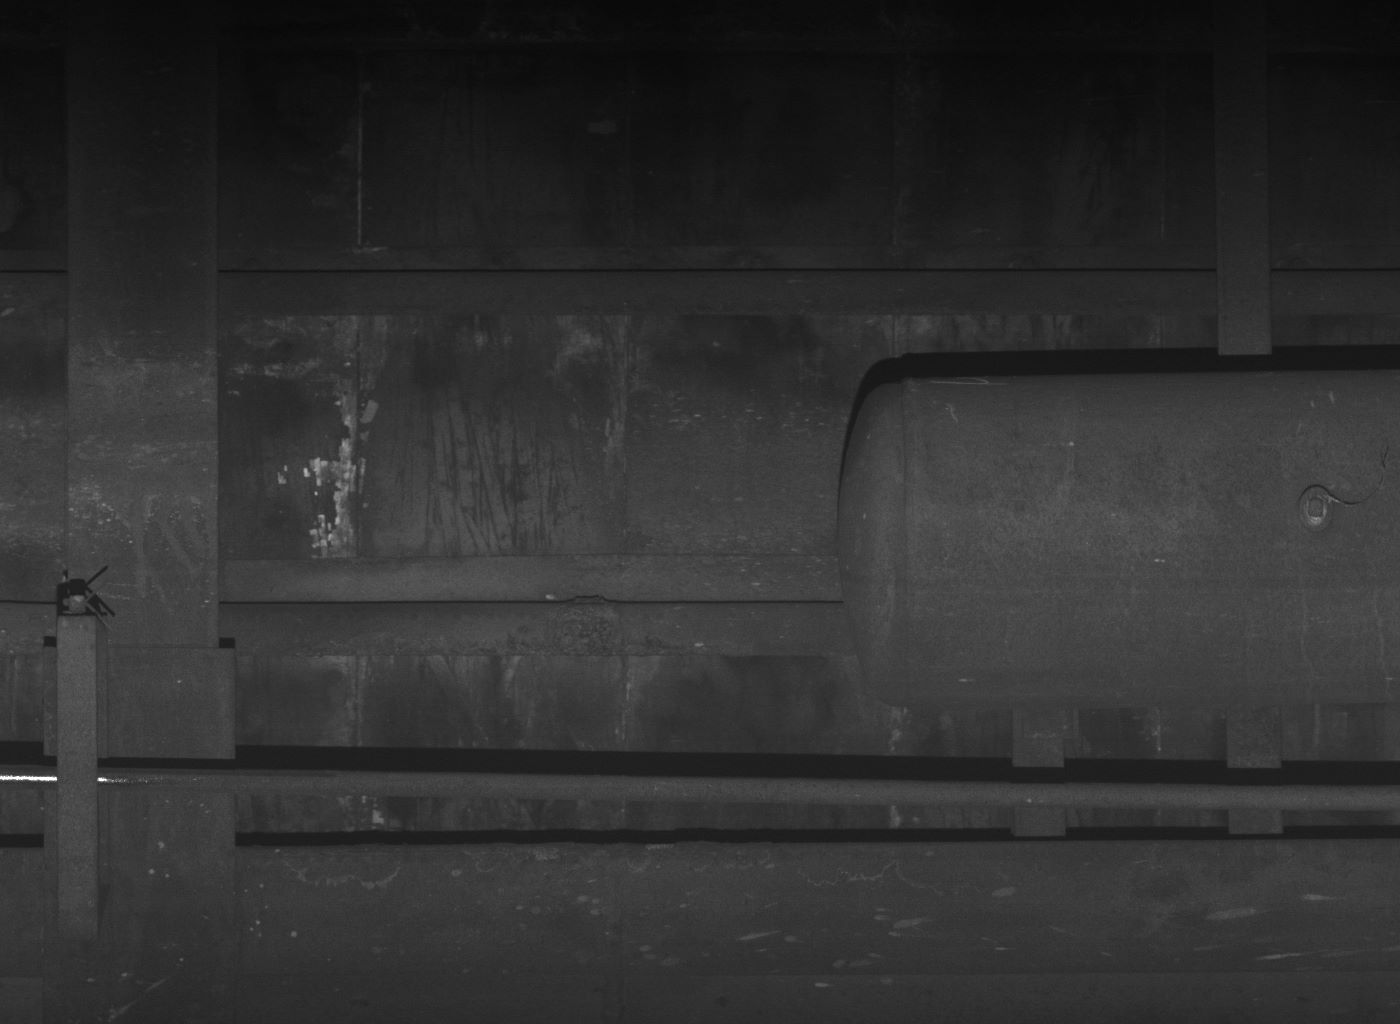normal: (48, 580, 107, 937)
